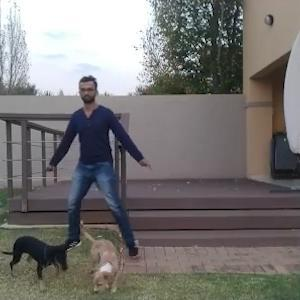land: (48, 86, 156, 263)
